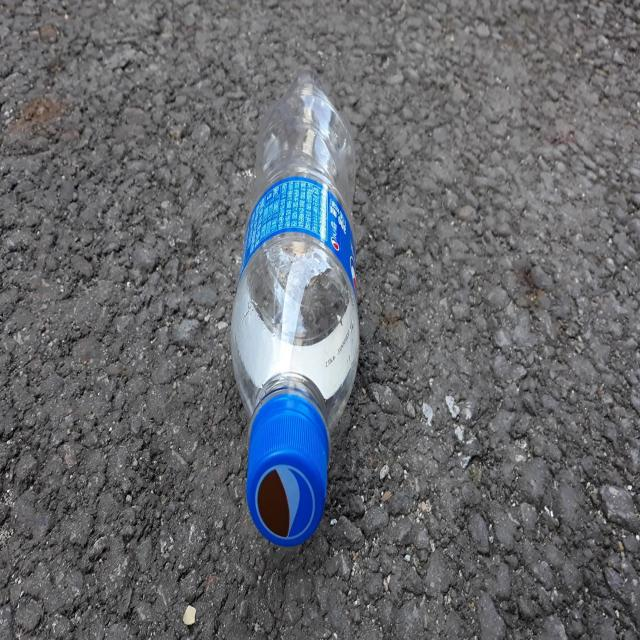plastic: (231, 69, 360, 546)
